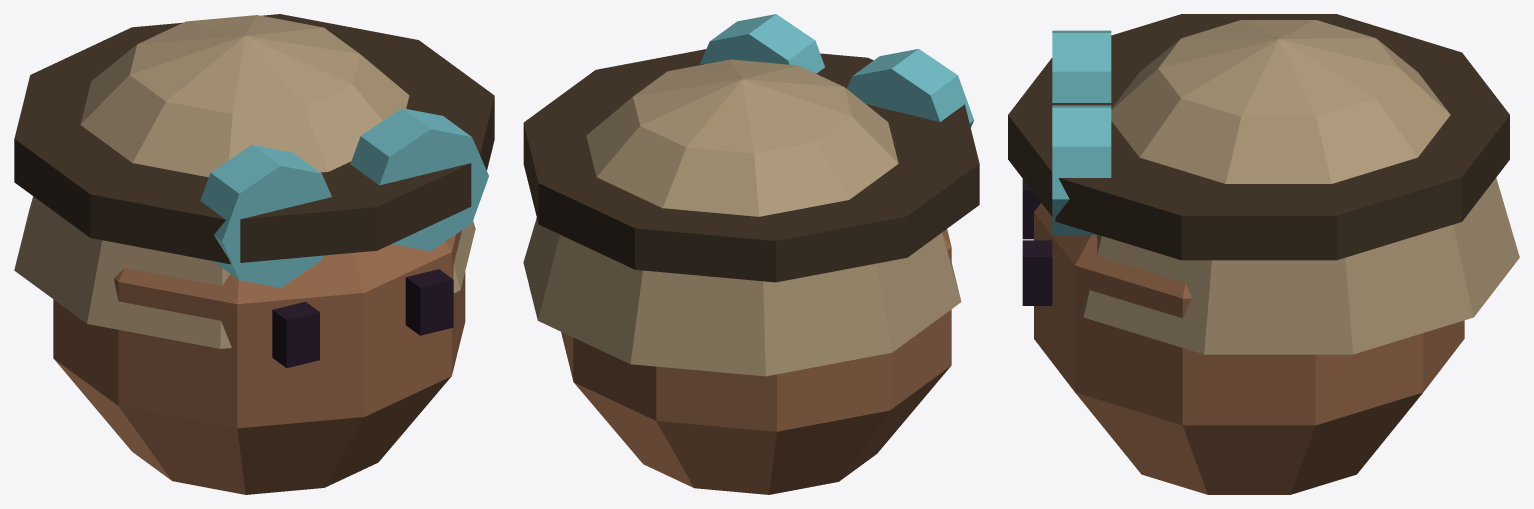
File: head_orrin.gltf
The picture shows the model from 3 angles, left to right: view 1: azimuth 30°, elevation 25°; view 2: azimuth 150°, elevation 25°; view 3: azimuth 270°, elevation 25°; orthographic projection. The views are drawn at different scales.
Visible parts, largest first — view 1: skin, hair, strap, goggles, eyes; view 2: hair, strap, skin, goggles; view 3: hair, skin, strap, goggles, eyes.
Boxes of the visible parts, box(x1,y1,x2,y2) form: skin: box(53, 230, 465, 494); hair: box(14, 15, 475, 348); strap: box(14, 14, 494, 263); goggles: box(200, 108, 488, 287); eyes: box(272, 269, 453, 367); hair: box(523, 59, 961, 376); strap: box(523, 49, 979, 282); skin: box(561, 229, 951, 494); goggles: box(700, 14, 973, 127); hair: box(1080, 20, 1519, 354); skin: box(1034, 203, 1464, 494); strap: box(1008, 14, 1509, 260); goggles: box(1052, 30, 1111, 234); eyes: box(1022, 179, 1052, 305).
Bounding box in the file's own units: 0.485 × 0.495 × 0.52.
